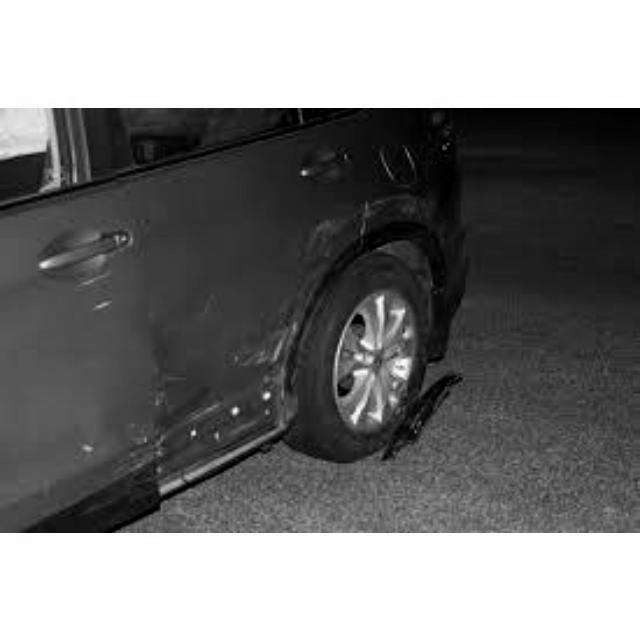doorouter-dent: (172, 138, 386, 475)
